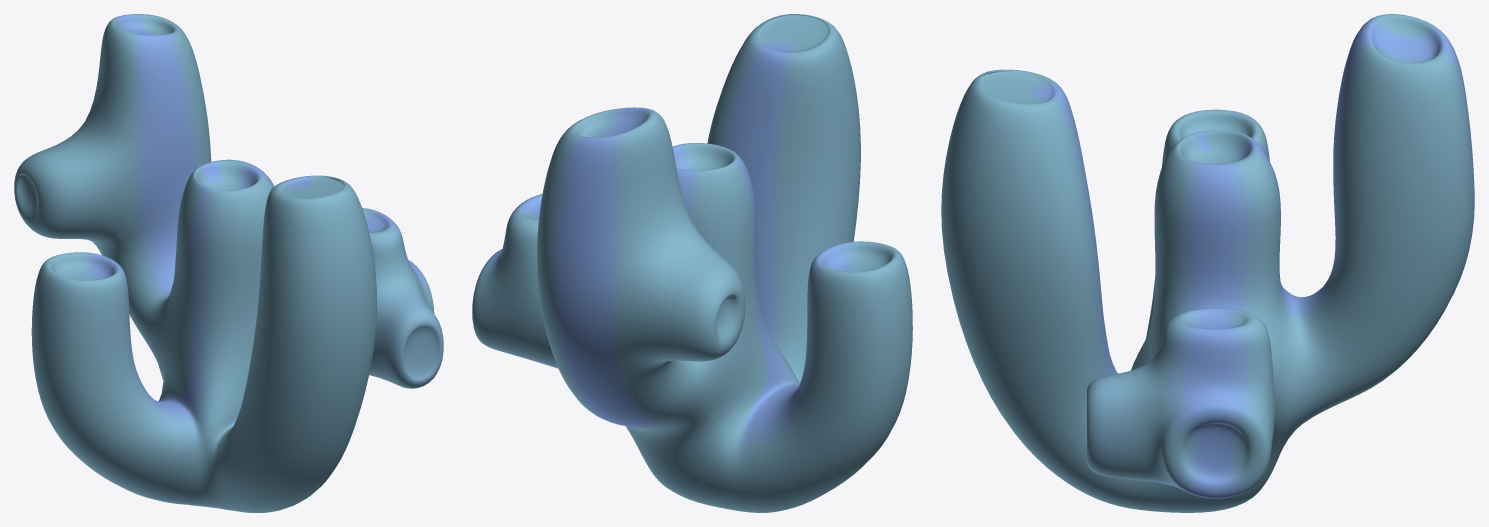
The model's file is coral2.glb.
3 views of the same model, side by side, from view 1: azimuth 30°, elevation 25°; view 2: azimuth 150°, elevation 25°; view 3: azimuth 270°, elevation 25° (orthographic). The views are drawn at different scales.
Parts seen in each view (by area): view 1: Cube; view 2: Cube; view 3: Cube.
Part boxes in pixels (x1,y1,x2,y2): Cube: (14,14,443,512); Cube: (472,14,912,512); Cube: (941,14,1474,512).
Size of the model in its own units: 8.37 by 8.74 by 8.82.
Materials: 1 (1 with a texture image).
